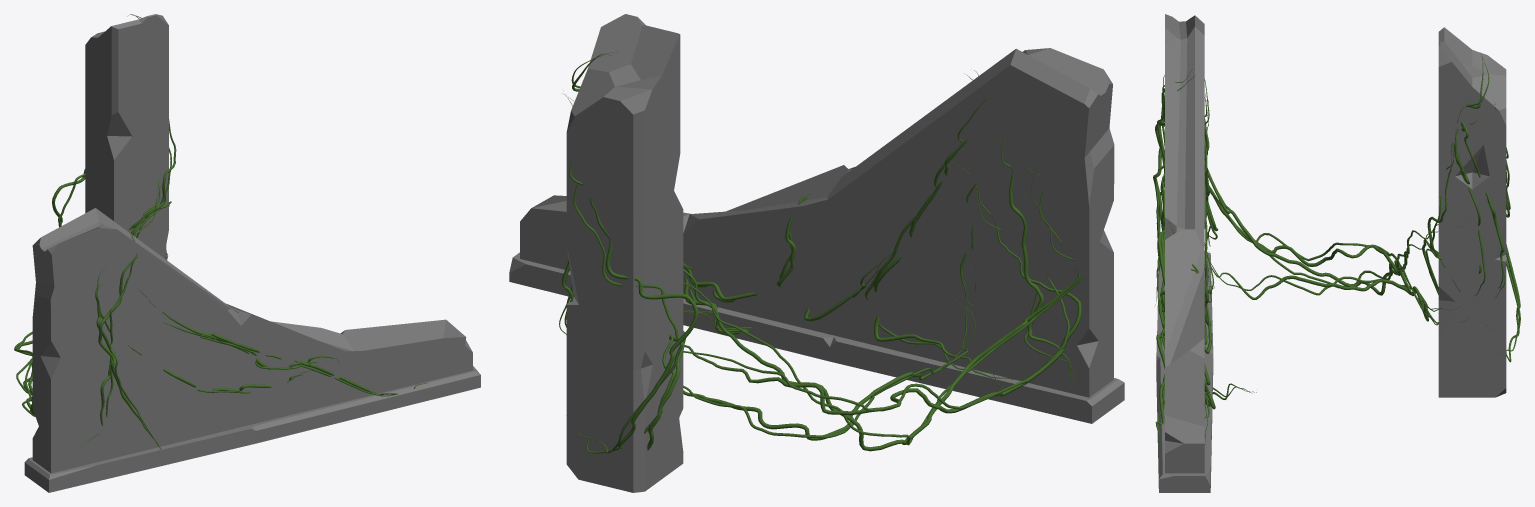
File: Ruins_Fix.fbx
3 renders of one model, left to right at view 1: azimuth 30°, elevation 25°; view 2: azimuth 150°, elevation 25°; view 3: azimuth 270°, elevation 25°, orthographic. The views are drawn at different scales.
Visible parts, largest first — view 1: Ruin2, Ruin1, Vines; view 2: Ruin2, Ruin1, Vines; view 3: Ruin1, Ruin2, Vines.
Boxes of the visible parts, bbox=[...] form: Ruin2: bbox=[24, 208, 480, 492]; Ruin1: bbox=[85, 14, 168, 259]; Vines: bbox=[14, 14, 428, 451]; Ruin2: bbox=[509, 48, 1124, 423]; Ruin1: bbox=[566, 14, 683, 492]; Vines: bbox=[559, 51, 1083, 453]; Ruin1: bbox=[1438, 27, 1506, 397]; Ruin2: bbox=[1156, 14, 1213, 492]; Vines: bbox=[1153, 53, 1520, 448].
Bounding box in the file's own units: 905 × 649 × 625.
